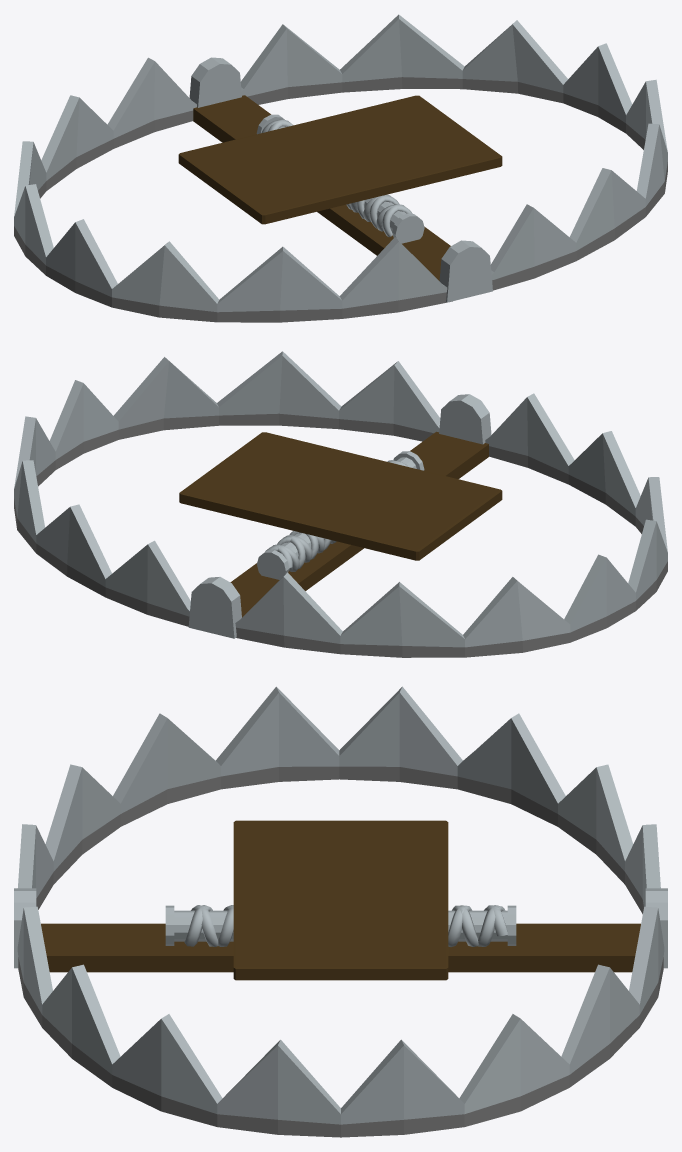
Rendered from Bear Trap.fbx.
3 views of the same model, one above another, from view 1: azimuth 30°, elevation 25°; view 2: azimuth 150°, elevation 25°; view 3: azimuth 270°, elevation 25° (orthographic). The views are drawn at different scales.
Parts seen in each view (by area): view 1: Base, Claw_2, Claw_1; view 2: Base, Claw_2, Claw_1; view 3: Base, Claw_1, Claw_2.
Boxes of the visible parts, <box> form: Base: <box>178,57,502,302</box>; Claw_2: <box>14,57,452,322</box>; Claw_1: <box>240,14,667,290</box>; Base: <box>179,394,502,638</box>; Claw_2: <box>235,393,667,657</box>; Claw_1: <box>14,351,440,626</box>; Base: <box>14,820,667,980</box>; Claw_1: <box>17,906,664,1137</box>; Claw_2: <box>18,686,660,914</box>.
Size of the model in its own units: 133 by 15.37 by 101.
